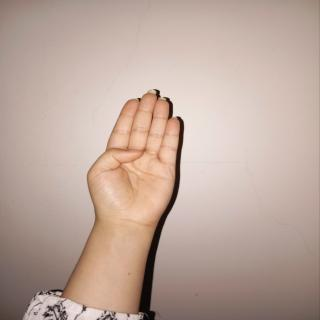KAAF: (86, 86, 195, 236)
